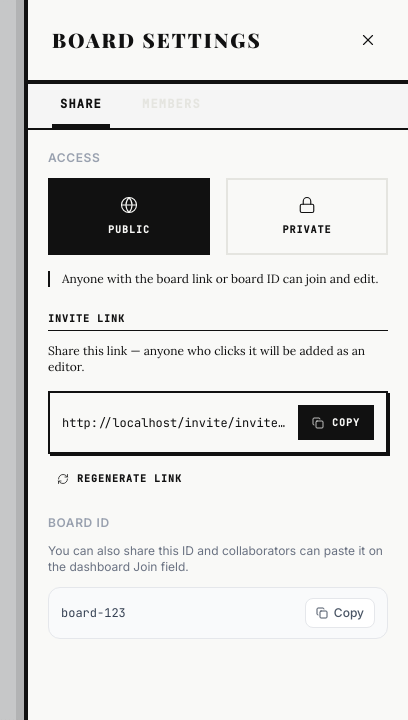
BoardSettingsPanel › loads members when Members tab is active
Click the button "Members" at (171,106), box [134,84,209,128]
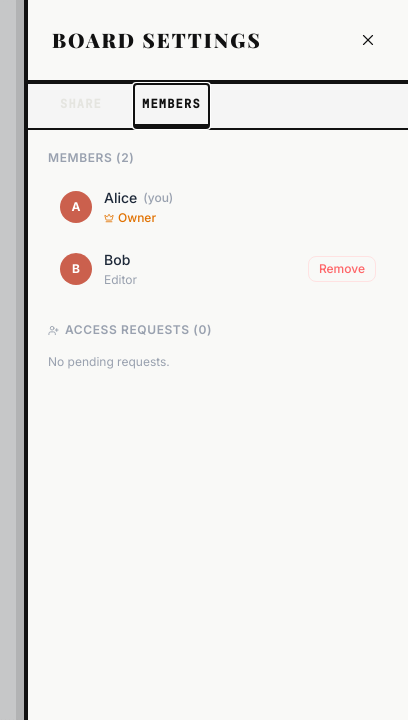
Now the text "Alice" is shown, box [104,189,137,206]
Now the text "Bob" is shown, box [104,251,130,268]
